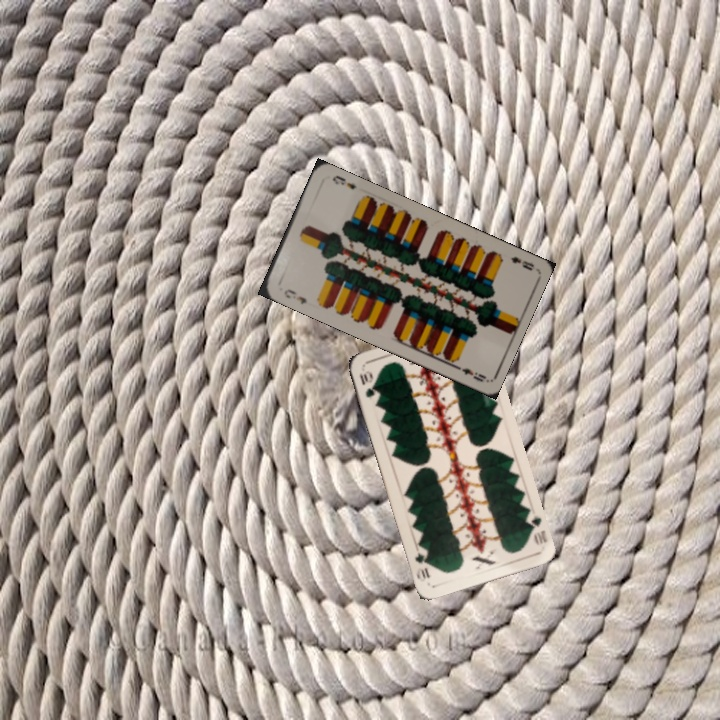E9: (280, 285, 309, 307), (507, 252, 537, 273)
G10: (522, 511, 550, 547), (355, 367, 377, 400)
